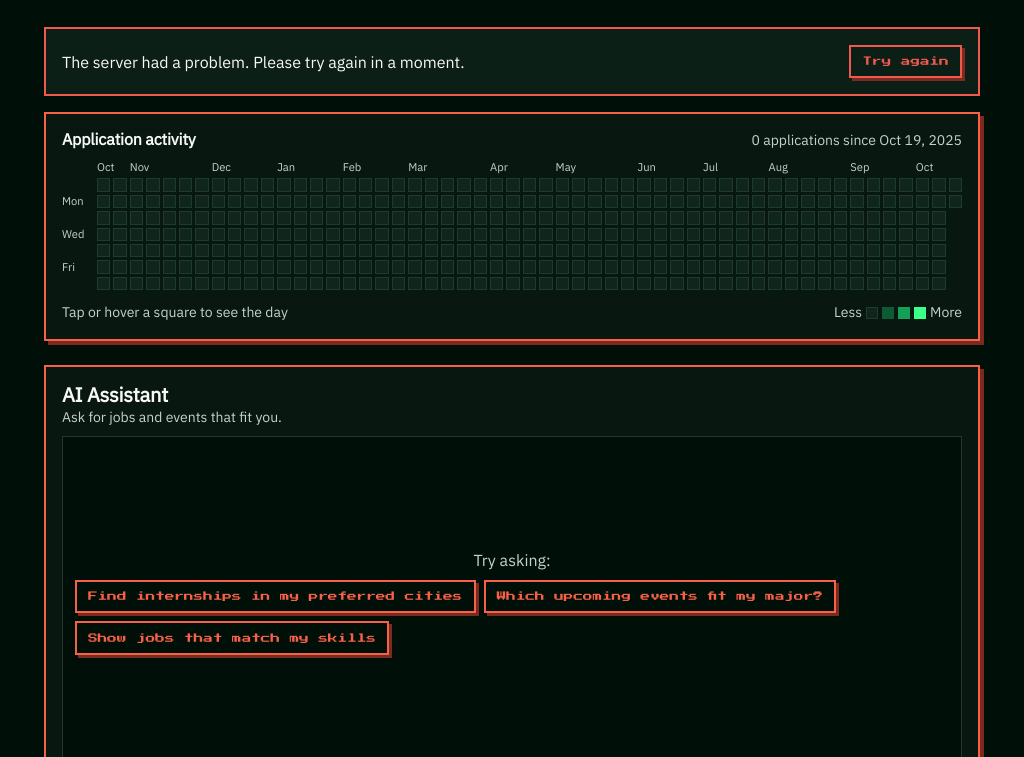
Test: Home dashboard › shows an error with a working 'Try again' button
(page scrolled)
Expected: the text "The server had a problem. Please try again in a moment." is shown, top-left (62, 50), bottom-right (464, 74)
Click the button "Try again" at x=906, y=62, box top-left (849, 45), bottom-right (962, 78)
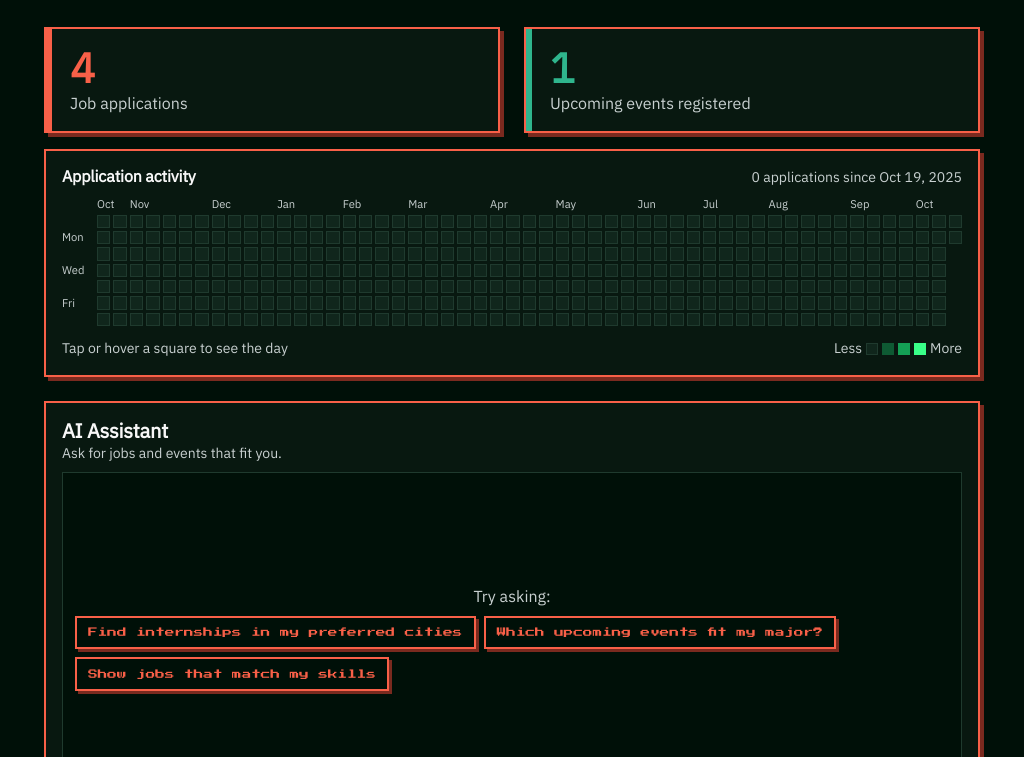
Result: the element with test id "stat-applications" shows "4" at top-left (70, 40), bottom-right (95, 94)
Result: the text "server had a problem" is gone
